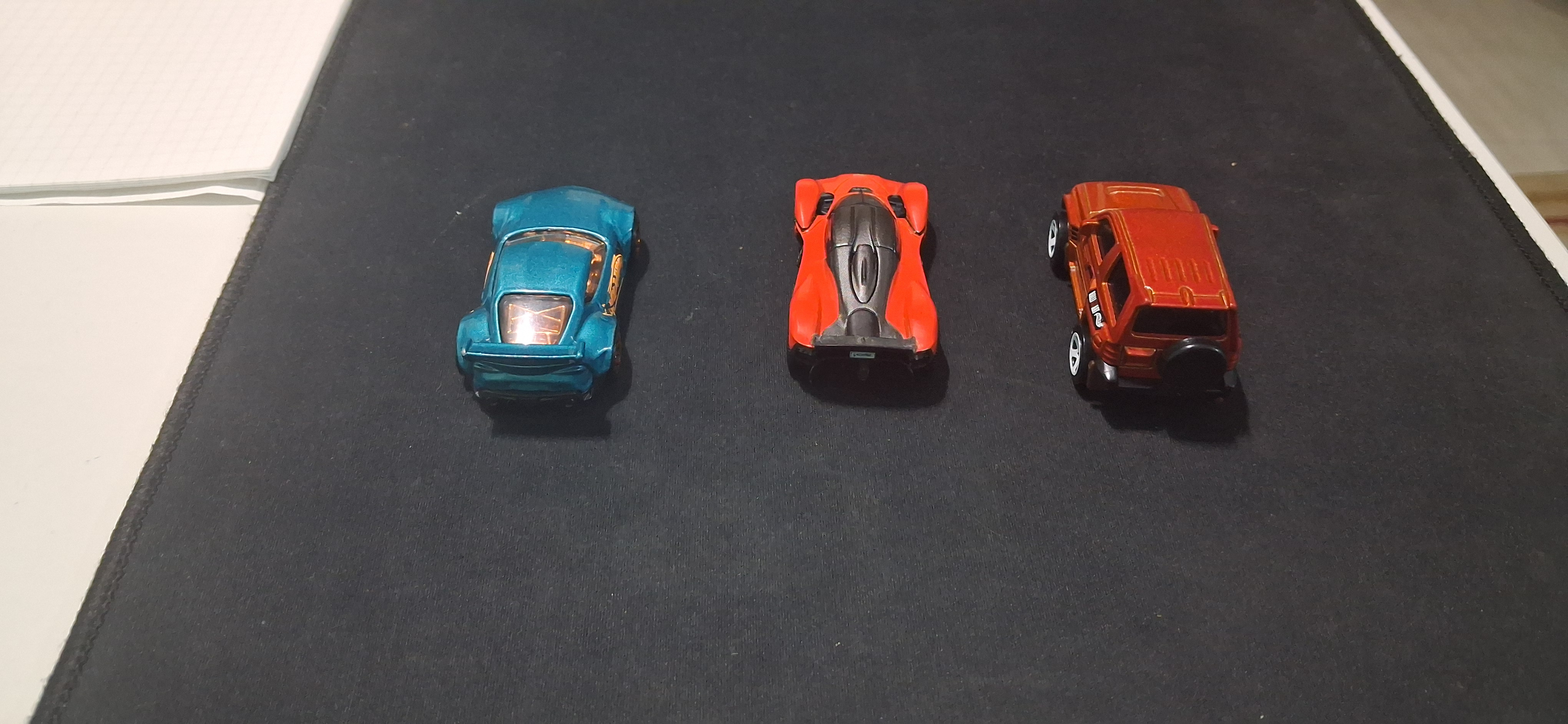Aston_Martin_Valkyrie: (767, 153, 942, 438)
Mitsubishi_Pajero_Evolution: (1044, 146, 1244, 456)
Toyota_GR_Supra: (444, 168, 662, 427)
